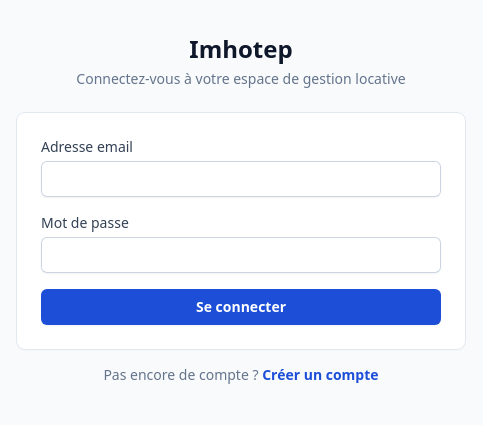
LoginPage › shows validation errors when submitting an empty form
Click the button "Se connecter".
click(241, 307)  # box [41,289,441,325]
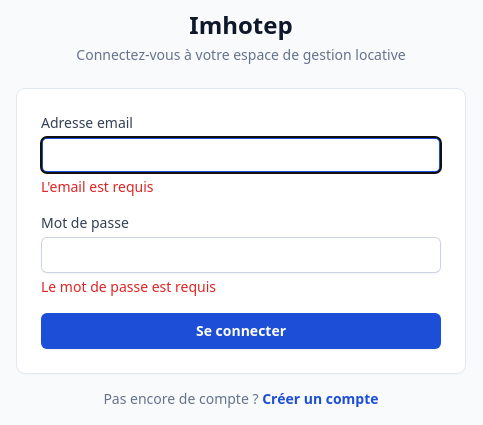
Expected: the text "L'email est requis" is shown, [41,177,154,196]
Expected: the text "Le mot de passe est requis" is shown, [41,277,216,296]
